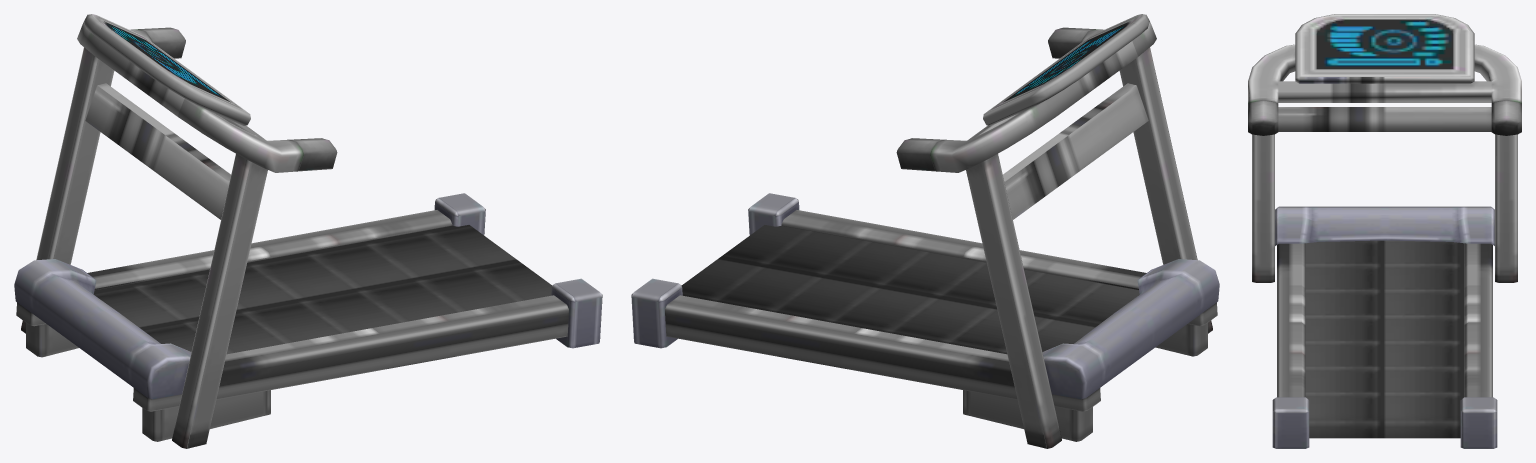
The model's file is int_fns_running.dae.
The picture shows the model from 3 angles, left to right: view 1: azimuth 30°, elevation 25°; view 2: azimuth 150°, elevation 25°; view 3: azimuth 270°, elevation 25°; orthographic projection. The views are drawn at different scales.
Visible parts, largest first — view 1: int_fns_running; view 2: int_fns_running; view 3: int_fns_running.
Boxes of the visible parts, box(x1,y1,x2,y2) form: int_fns_running: box(14, 14, 602, 448); int_fns_running: box(631, 14, 1219, 448); int_fns_running: box(1248, 14, 1521, 448).
Size of the model in its own units: 45.56 by 32.96 by 29.52.
2 materials, 2 textured.
